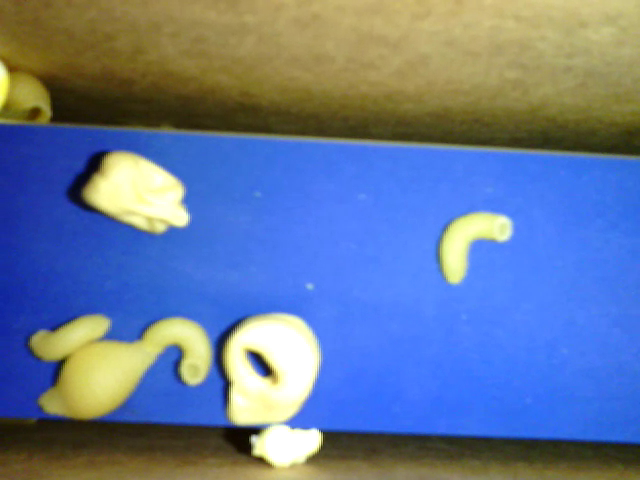elbow: (437, 208, 516, 288), (142, 314, 212, 389), (27, 314, 112, 360)
shell: (38, 333, 160, 421), (4, 70, 54, 127)
tortellini: (222, 313, 323, 424), (79, 151, 192, 237)
